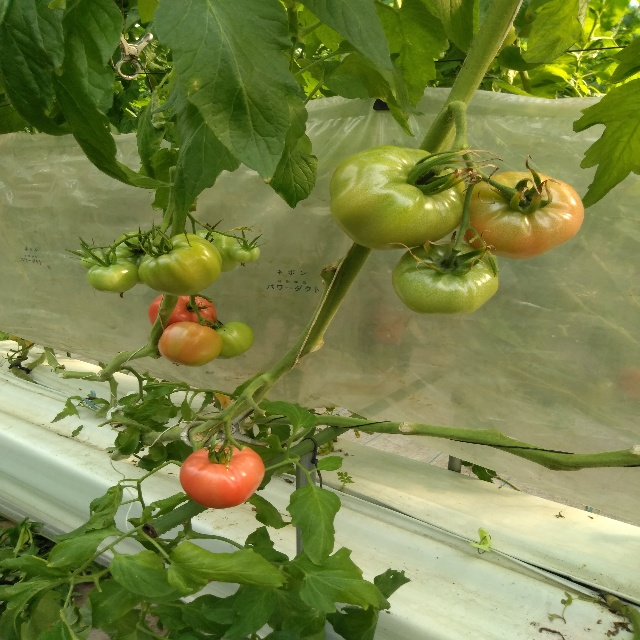b_fully_ripened: (179, 445, 264, 509), (148, 294, 218, 329)
b_green: (330, 146, 466, 252), (391, 240, 499, 316), (139, 233, 223, 295), (191, 230, 238, 272), (86, 258, 140, 294), (105, 231, 157, 266), (216, 321, 254, 359), (230, 243, 260, 262), (80, 251, 104, 269)
b_half_ripened: (464, 172, 584, 259), (158, 322, 222, 367)
